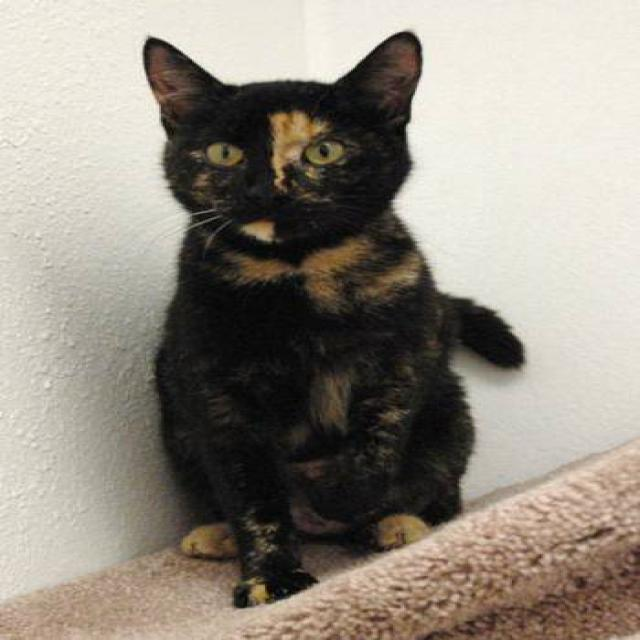cat: (139, 29, 525, 608)
